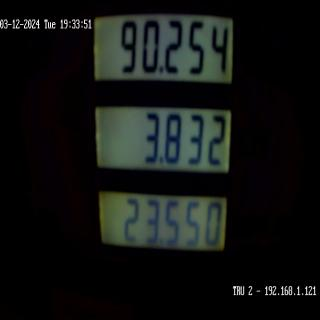screen: (90, 1, 242, 288)
